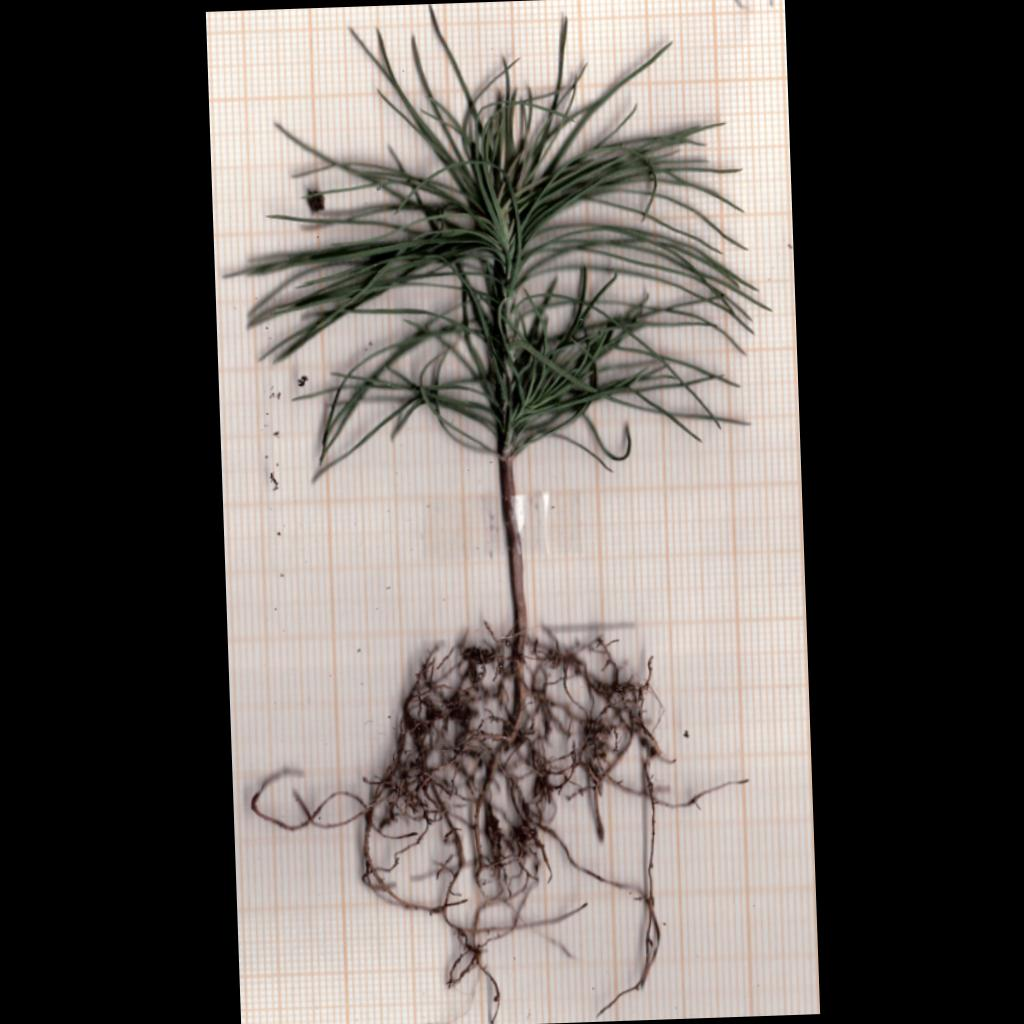flowerCedr: (239, 7, 756, 469)
rootCedr: (251, 629, 732, 1023)
stemCedr: (499, 458, 527, 653)
